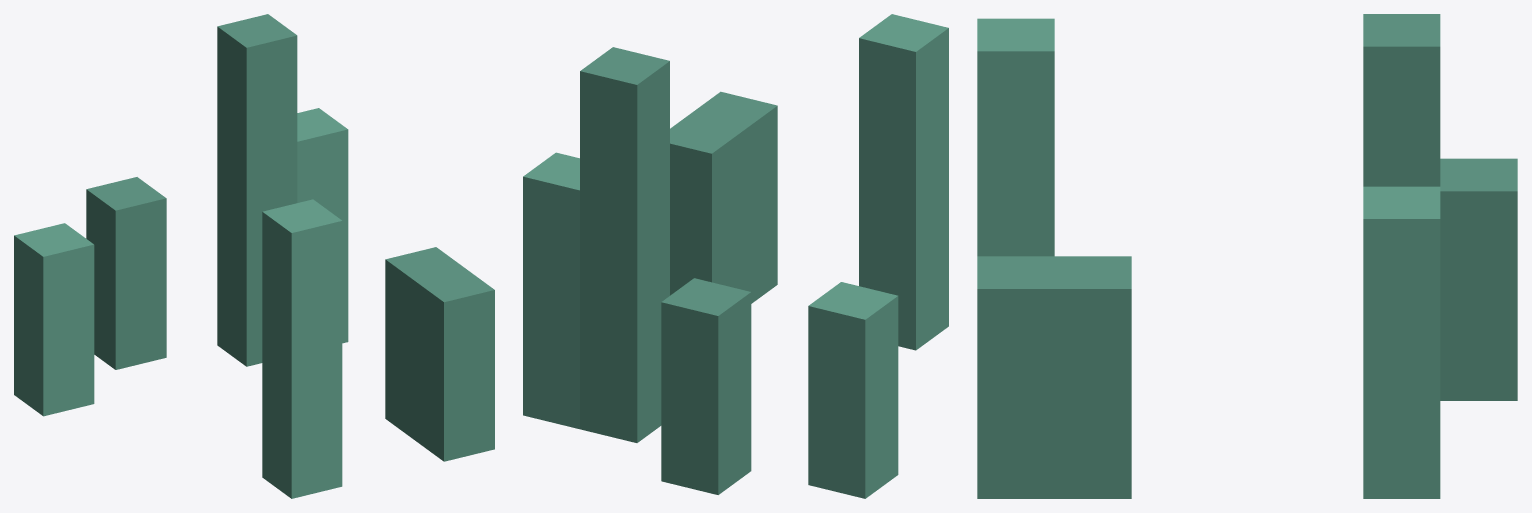
The model's file is posidonia_02.glb.
3 views of the same model, side by side, from view 1: azimuth 30°, elevation 25°; view 2: azimuth 150°, elevation 25°; view 3: azimuth 270°, elevation 25° (orthographic). The views are drawn at different scales.
Visible parts, largest first — view 1: posidonia_02; view 2: posidonia_02; view 3: posidonia_02.
Boxes of the visible parts, box(x1,y1,x2,y2) form: posidonia_02: box(14, 14, 494, 498); posidonia_02: box(523, 14, 948, 498); posidonia_02: box(977, 14, 1517, 498).
Bounding box in the file's own units: 0.6 × 0.6 × 0.7.
